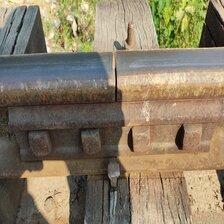railway-gap: (82, 49, 151, 109)
